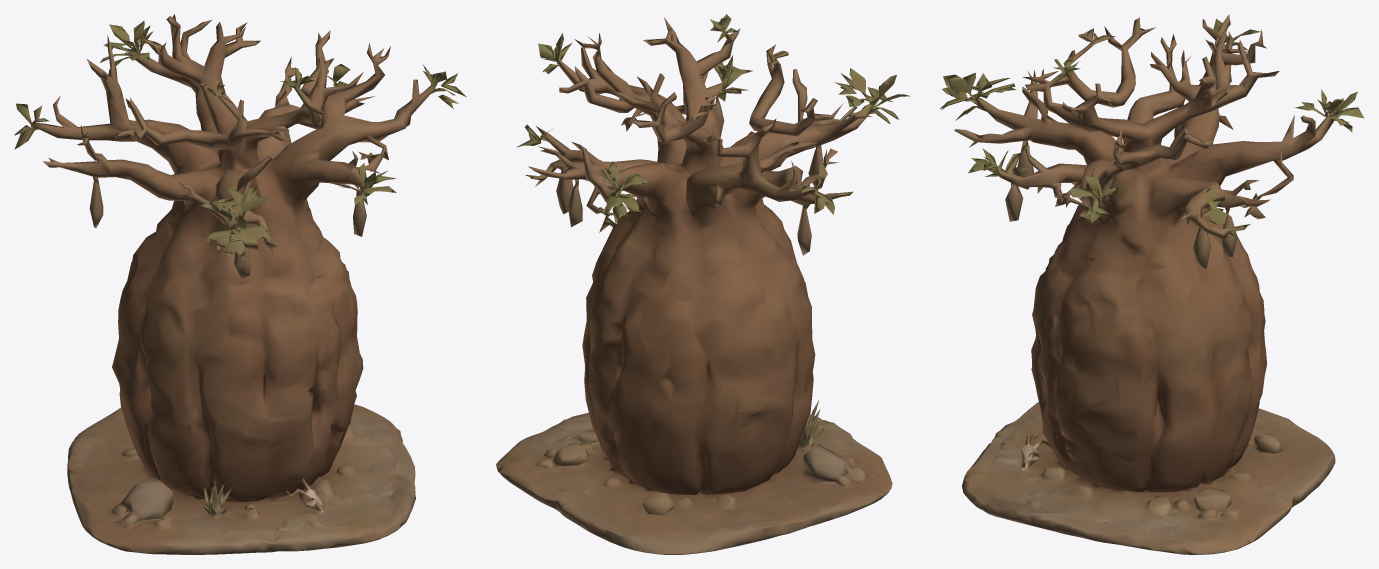
Rendered from kano_baobab.glb.
3 renders of one model, left to right at view 1: azimuth 30°, elevation 25°; view 2: azimuth 150°, elevation 25°; view 3: azimuth 270°, elevation 25°, orthographic. The views are drawn at different scales.
Visible parts, largest first — view 1: tripo_node_6e869774-3b38-44fe-b403-05ebe72ddbfe; view 2: tripo_node_6e869774-3b38-44fe-b403-05ebe72ddbfe; view 3: tripo_node_6e869774-3b38-44fe-b403-05ebe72ddbfe.
Part boxes in pixels (<box>): tripo_node_6e869774-3b38-44fe-b403-05ebe72ddbfe: <box>14,14,466,554</box>; tripo_node_6e869774-3b38-44fe-b403-05ebe72ddbfe: <box>496,14,910,554</box>; tripo_node_6e869774-3b38-44fe-b403-05ebe72ddbfe: <box>940,14,1364,554</box>.
Size of the model in its own units: 0.9036 by 1 by 0.9091.
1 material, 1 textured.
